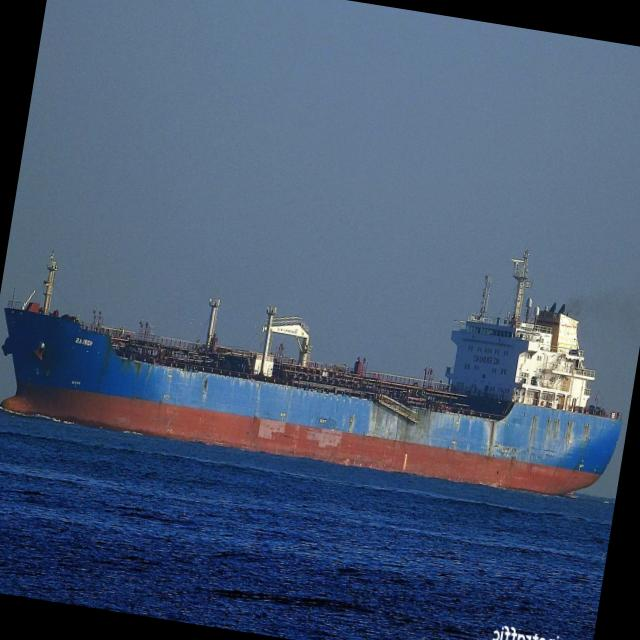Tanker: (1, 250, 621, 494)
